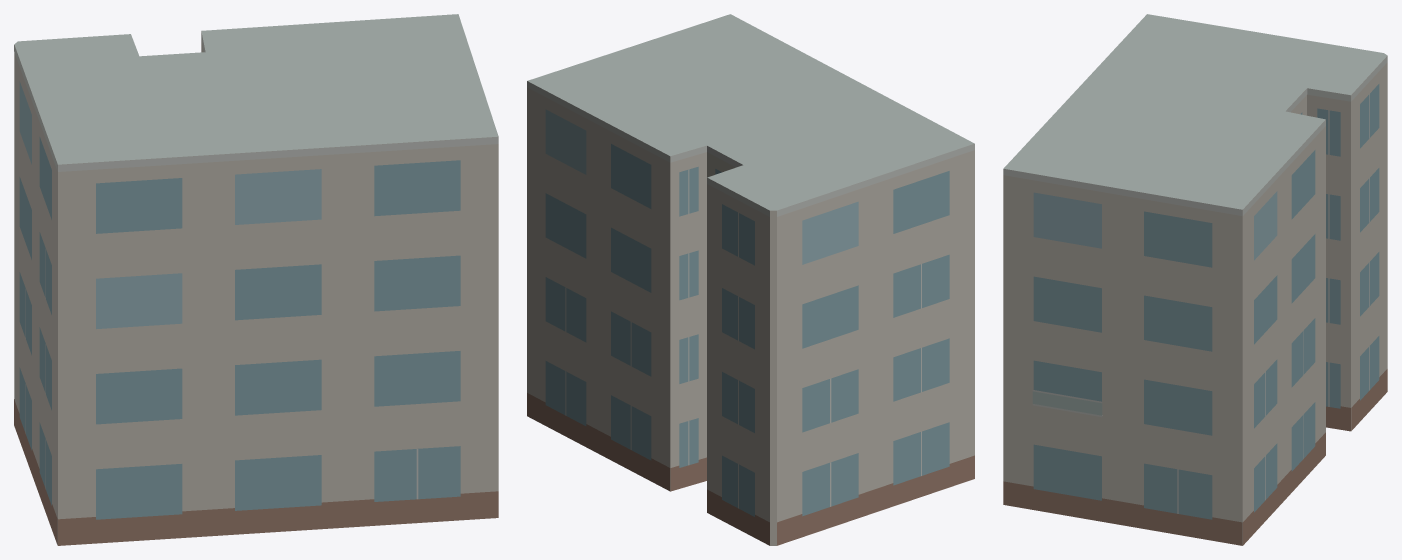
File: survey-upis-32492213.glb
3 views of the same model, side by side, from view 1: azimuth 30°, elevation 25°; view 2: azimuth 150°, elevation 25°; view 3: azimuth 270°, elevation 25° (orthographic). The views are drawn at different scales.
Parts seen in each view (by area): view 1: survey-upis-32492213.tmp; view 2: survey-upis-32492213.tmp; view 3: survey-upis-32492213.tmp.
Boxes of the visible parts, bbox=[...] form: survey-upis-32492213.tmp: bbox=[14, 14, 498, 545]; survey-upis-32492213.tmp: bbox=[527, 14, 974, 545]; survey-upis-32492213.tmp: bbox=[1003, 14, 1387, 545].
Bounding box in the file's own units: 15.87 × 12.7 × 13.17.
